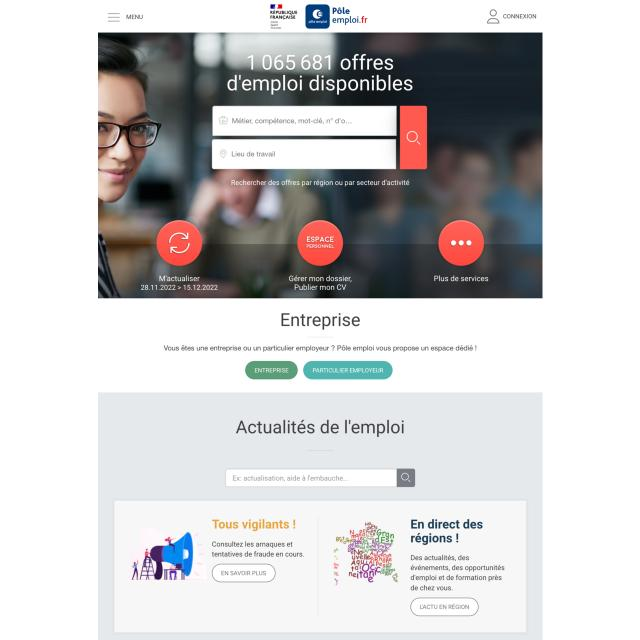input: (212, 139, 396, 169), (212, 106, 397, 135), (225, 468, 415, 488)
logo: (268, 0, 369, 31)
navigation: (136, 219, 499, 293), (105, 9, 146, 25)
